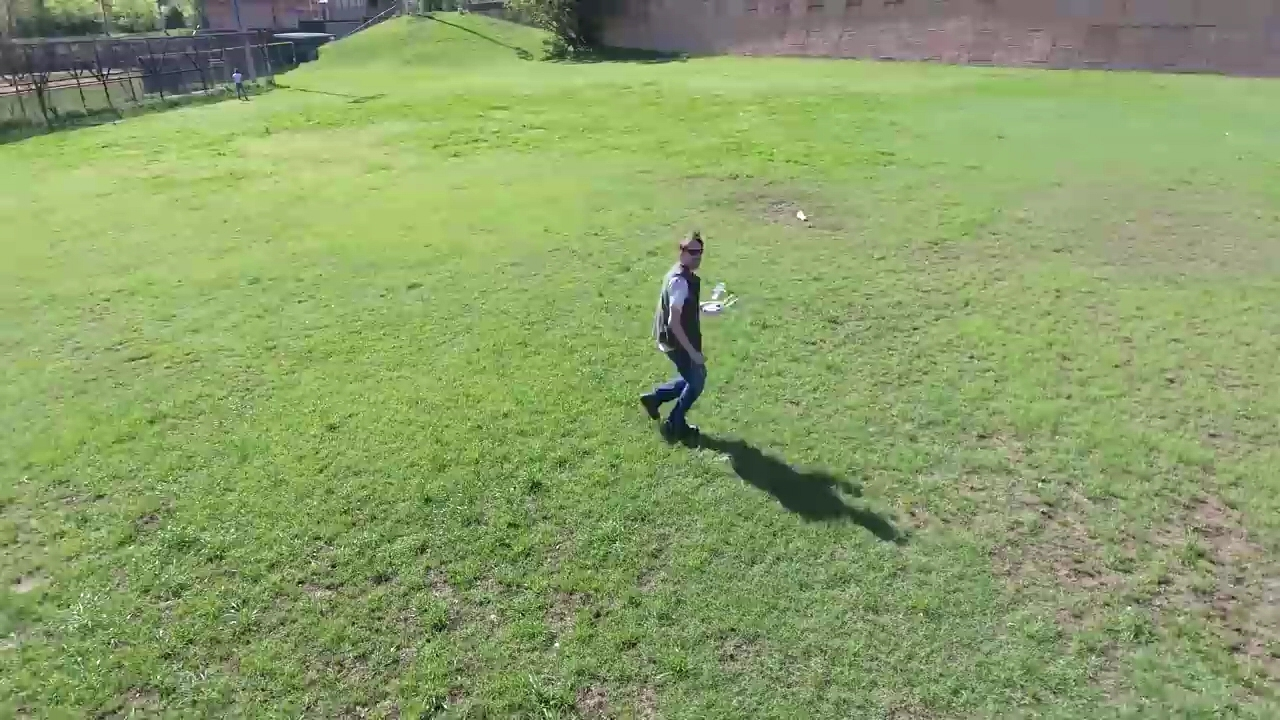insan: (635, 227, 710, 441)
